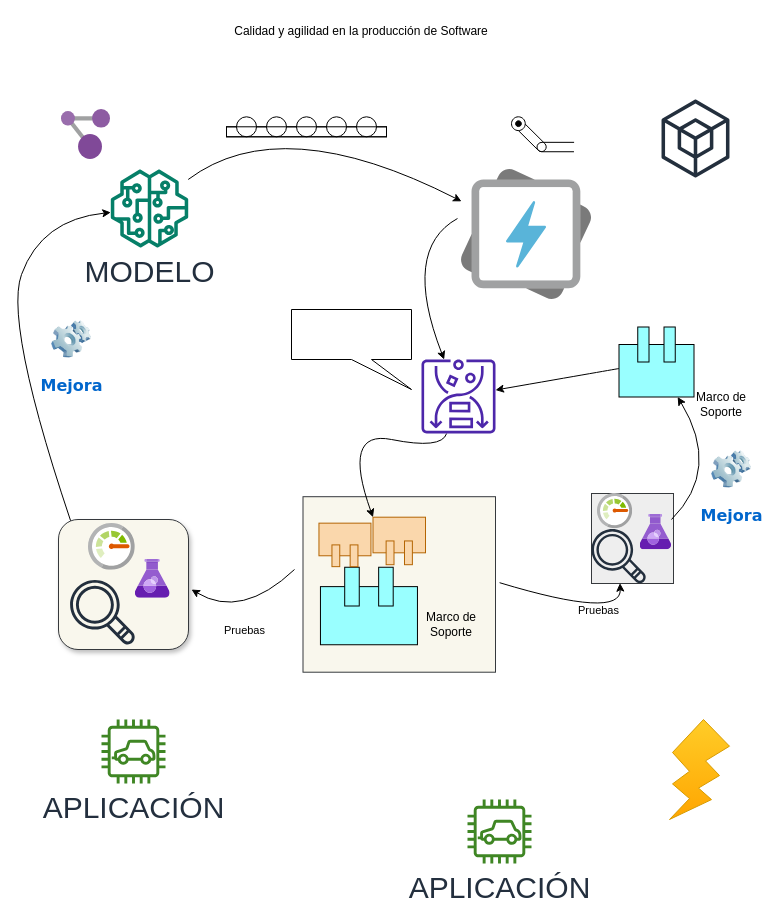
The diagram is 780 pixels wide and 923 high, and some of its shapes have lost their labels. Here are the shapes that lost their labels. From the top down, the centre of each, then its label:
At pixel 526 234: "Generador de Código".
At pixel 351 349: "Escritura de Código Fuente".
